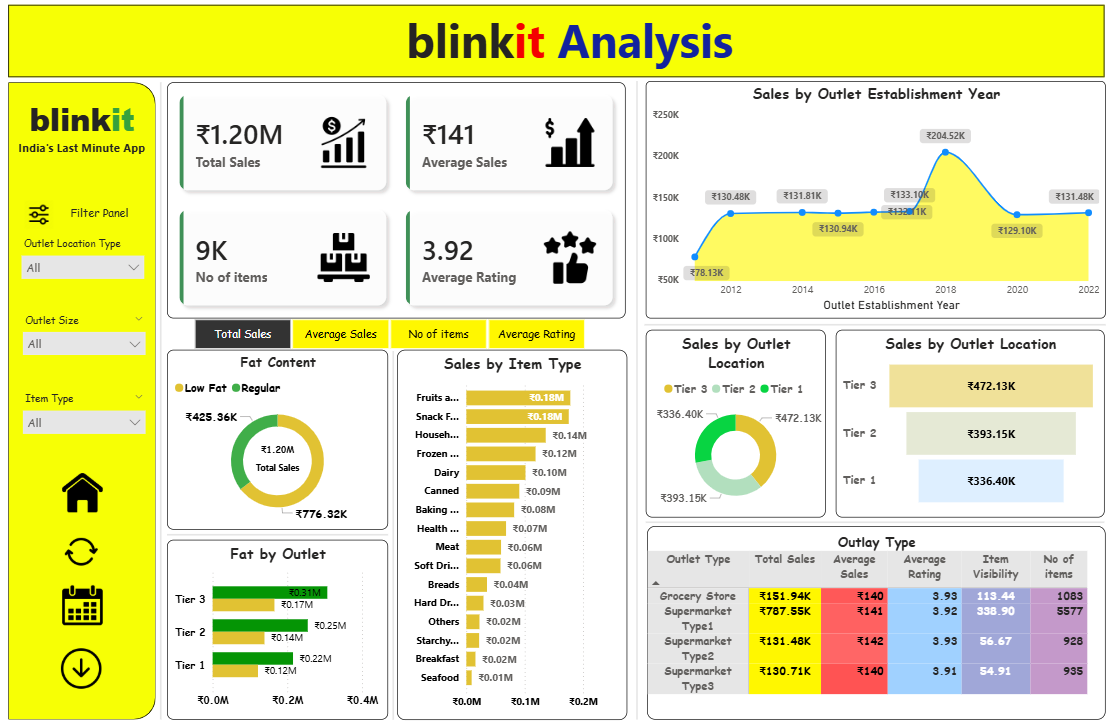

The dashboard page shown, as its layout file describes it:
{"tool":"powerbi","page":{"name":"Dashboard","canvas":[1380,900],"ordinal":0},"visuals":[{"type":"shape","box":[19.9,10.7,1340.5,88.7],"z":0},{"type":"shape","box":[19.9,105.5,180.4,779.6],"z":1000},{"type":"textbox","box":[19.9,119.2,180.4,102.4],"z":2000},{"type":"textbox","box":[313.4,10.7,706.2,88.7],"z":3000},{"type":"cardVisual","fields":{"Data":["BlinkIT Grocery Data.Total Sales","BlinkIT Grocery Data.Average Sales","BlinkIT Grocery Data.Number of items","BlinkIT Grocery Data.Average Rating"]},"box":[214,105.5,561,288.9],"z":4000},{"type":"donutChart","title":"Fat Content","fields":{"Y":["BlinkIT Grocery Data.Total Sales"],"Category":["BlinkIT Grocery Data.Item Fat Content"]},"box":[214,432.6,270.6,220],"z":5000},{"type":"clusteredBarChart","title":"Sales by Item Type","fields":{"Y":["BlinkIT Grocery Data.Total Sales"],"Category":["BlinkIT Grocery Data.Item Type"]},"box":[494.6,432.4,281.5,452.6],"z":6000},{"type":"lineChart","title":"Sales by Outlet Establishment Year","fields":{"Category":["BlinkIT Grocery Data.Outlet Establishment Year"],"Y":["Sum(BlinkIT Grocery Data.Sales)"]},"box":[799.4,103.9,562.5,290.4],"z":7000},{"type":"clusteredBarChart","title":"Fat by Outlet","fields":{"Y":["BlinkIT Grocery Data.Total Sales"],"Category":["BlinkIT Grocery Data.Outlet Location Type"],"Series":["BlinkIT Grocery Data.Item Fat Content"]},"box":[214,664.9,270.6,220.1],"z":8000},{"type":"funnel","title":"Sales by Outlet Location","fields":{"Category":["BlinkIT Grocery Data.Outlet Location Type"],"Y":["Sum(BlinkIT Grocery Data.Sales)"]},"box":[1031.8,408.1,328.6,229.3],"z":9000},{"type":"donutChart","title":"Sales by Outlet Location","fields":{"Y":["Sum(BlinkIT Grocery Data.Sales)"],"Category":["BlinkIT Grocery Data.Outlet Location Type"]},"box":[799.4,408.1,220.1,229.3],"z":10000},{"type":"pivotTable","title":"Outlay Type","fields":{"Rows":["BlinkIT Grocery Data.Outlet Type"],"Values":["BlinkIT Grocery Data.Total Sales","BlinkIT Grocery Data.Average Sales","BlinkIT Grocery Data.Average Rating","Sum(BlinkIT Grocery Data.Item Visibility)","BlinkIT Grocery Data.Number of items"]},"box":[801,648.1,561,236.9],"z":11000},{"type":"slicer","fields":{"Values":["Metrices.Metrices"]},"box":[221.6,388.2,527.3,50.4],"z":12000},{"type":"shape","box":[799.4,626.7,561,33.6],"z":13000},{"type":"shape","box":[797.9,385.2,564,33.6],"z":14000},{"type":"shape","box":[214,642,270.6,33.6],"z":15000},{"type":"slicer","fields":{"Values":["BlinkIT Grocery Data.Outlet Location Type"]},"box":[26,288.9,169.7,71.8],"z":16000},{"type":"slicer","fields":{"Values":["BlinkIT Grocery Data.Outlet Size"]},"box":[27.5,382.1,169.7,71.8],"z":17000},{"type":"slicer","fields":{"Values":["BlinkIT Grocery Data.Item Type"]},"box":[27.5,478.4,169.7,67.3],"z":18000},{"type":"textbox","box":[84.1,250.7,94.8,32.1],"z":19000},{"type":"shape","box":[779.6,103.9,18.3,781.1],"z":20000},{"type":"shape","box":[481.5,434.1,18.3,450.9],"z":21000},{"type":"shape","box":[197.2,105.5,18.3,779.6],"z":22000},{"type":"image","box":[81,577.8,59.6,59.6],"z":23000},{"type":"image","box":[30.6,244.6,53.5,45.9],"z":24000},{"type":"image","box":[81,715.4,59.6,59.6],"z":25000},{"type":"image","box":[79.5,643.5,59.6,71.8],"z":26000},{"type":"image","box":[79.5,787.2,59.6,70.3],"z":27000},{"type":"card","fields":{"Values":["BlinkIT Grocery Data.Total Sales"]},"box":[301.1,528.9,96.3,71.8],"z":28000}]}

Visuals, with their boxes in screenshot pixels (x1, y1, x2, y2), scaled from the page's 1380x900 canvas onto the 1112x725 screenshot:
shape: <box>16,9,1096,80</box>
shape: <box>16,85,161,713</box>
textbox: <box>16,96,161,179</box>
textbox: <box>253,9,822,80</box>
cardVisual - BlinkIT Grocery Data.Total Sales x BlinkIT Grocery Data.Average Sales: <box>172,85,624,318</box>
"Fat Content" donutChart: <box>172,348,390,526</box>
"Sales by Item Type" clusteredBarChart: <box>399,348,625,713</box>
"Sales by Outlet Establishment Year" lineChart: <box>644,84,1097,318</box>
"Fat by Outlet" clusteredBarChart: <box>172,536,390,713</box>
"Sales by Outlet Location" funnel: <box>831,329,1096,513</box>
"Sales by Outlet Location" donutChart: <box>644,329,822,513</box>
"Outlay Type" pivotTable: <box>645,522,1097,713</box>
slicer - Metrices.Metrices: <box>179,313,603,353</box>
shape: <box>644,505,1096,532</box>
shape: <box>643,310,1097,337</box>
shape: <box>172,517,390,544</box>
slicer - BlinkIT Grocery Data.Outlet Location Type: <box>21,233,158,291</box>
slicer - BlinkIT Grocery Data.Outlet Size: <box>22,308,159,366</box>
slicer - BlinkIT Grocery Data.Item Type: <box>22,385,159,440</box>
textbox: <box>68,202,144,228</box>
shape: <box>628,84,643,713</box>
shape: <box>388,350,403,713</box>
shape: <box>159,85,174,713</box>
image: <box>65,465,113,513</box>
image: <box>25,197,68,234</box>
image: <box>65,576,113,624</box>
image: <box>64,518,112,576</box>
image: <box>64,634,112,691</box>
card - BlinkIT Grocery Data.Total Sales: <box>243,426,320,484</box>
